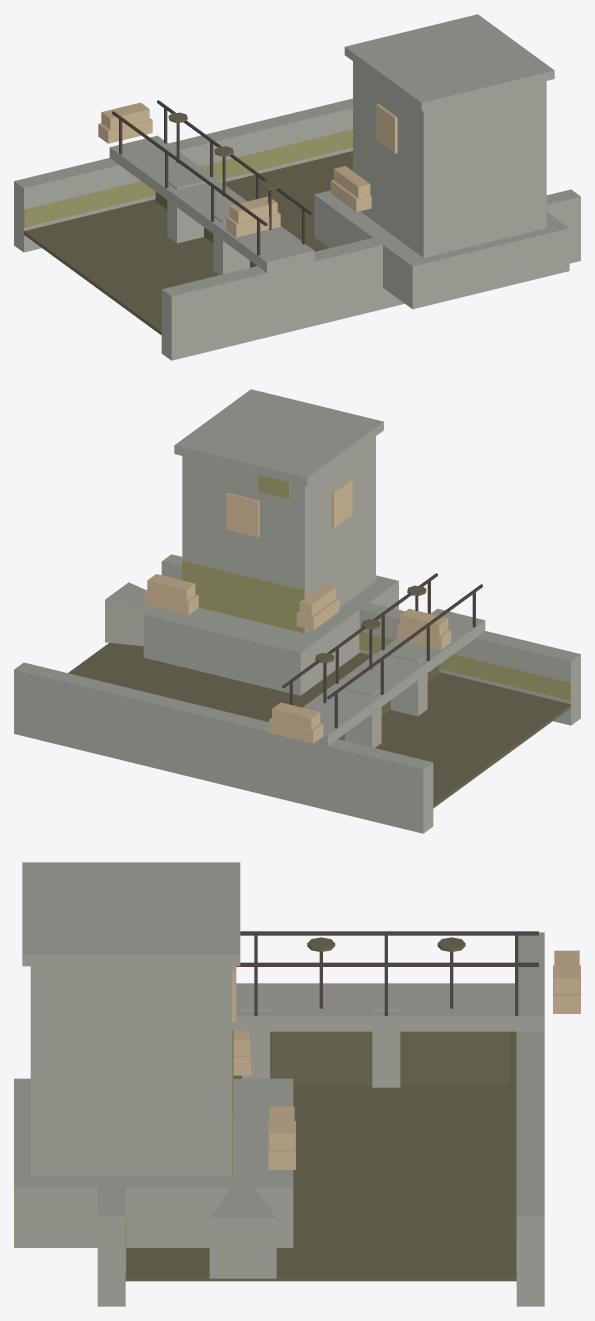
File: SM_CasetaCompuertas_v4_Fortificada_LOD0.fbx
The picture shows the model from 3 angles, top to bottom: view 1: azimuth 30°, elevation 25°; view 2: azimuth 150°, elevation 25°; view 3: azimuth 270°, elevation 25°; orthographic projection. The views are drawn at different scales.
Parts seen in each view (by area): view 1: SM_bloques.caseta_compuertas_v4_LOD0; view 2: SM_bloques.caseta_compuertas_v4_LOD0; view 3: SM_bloques.caseta_compuertas_v4_LOD0.
Part boxes in pixels (box(x1,y1,x2,y2)): SM_bloques.caseta_compuertas_v4_LOD0: box(14, 14, 580, 360); SM_bloques.caseta_compuertas_v4_LOD0: box(14, 389, 580, 833); SM_bloques.caseta_compuertas_v4_LOD0: box(14, 862, 580, 1306).
Bounding box in the file's own units: 12.1 × 6.24 × 10.15.
